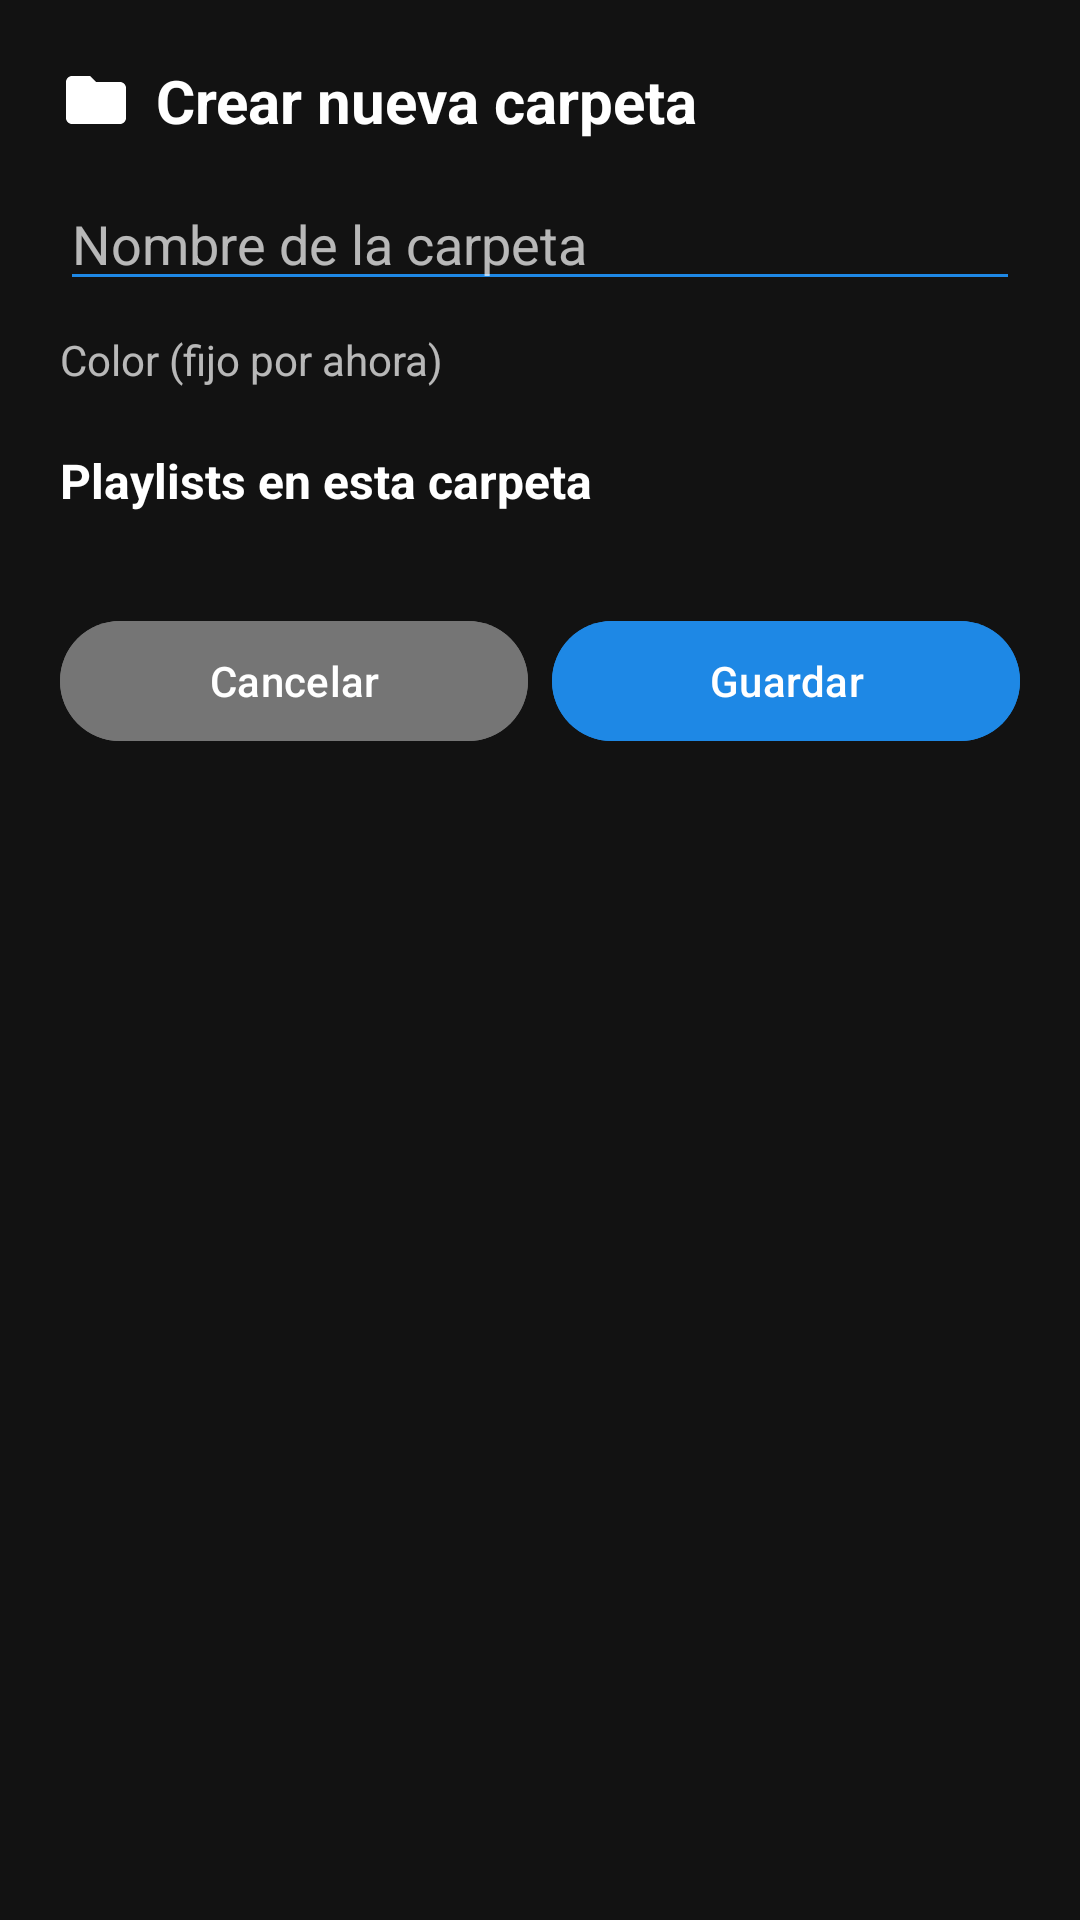

Named icons in this screenshot (1080×1920) and their bounding boxes, (x1, y1, x2, y2):
folder: (66, 76, 126, 124)
